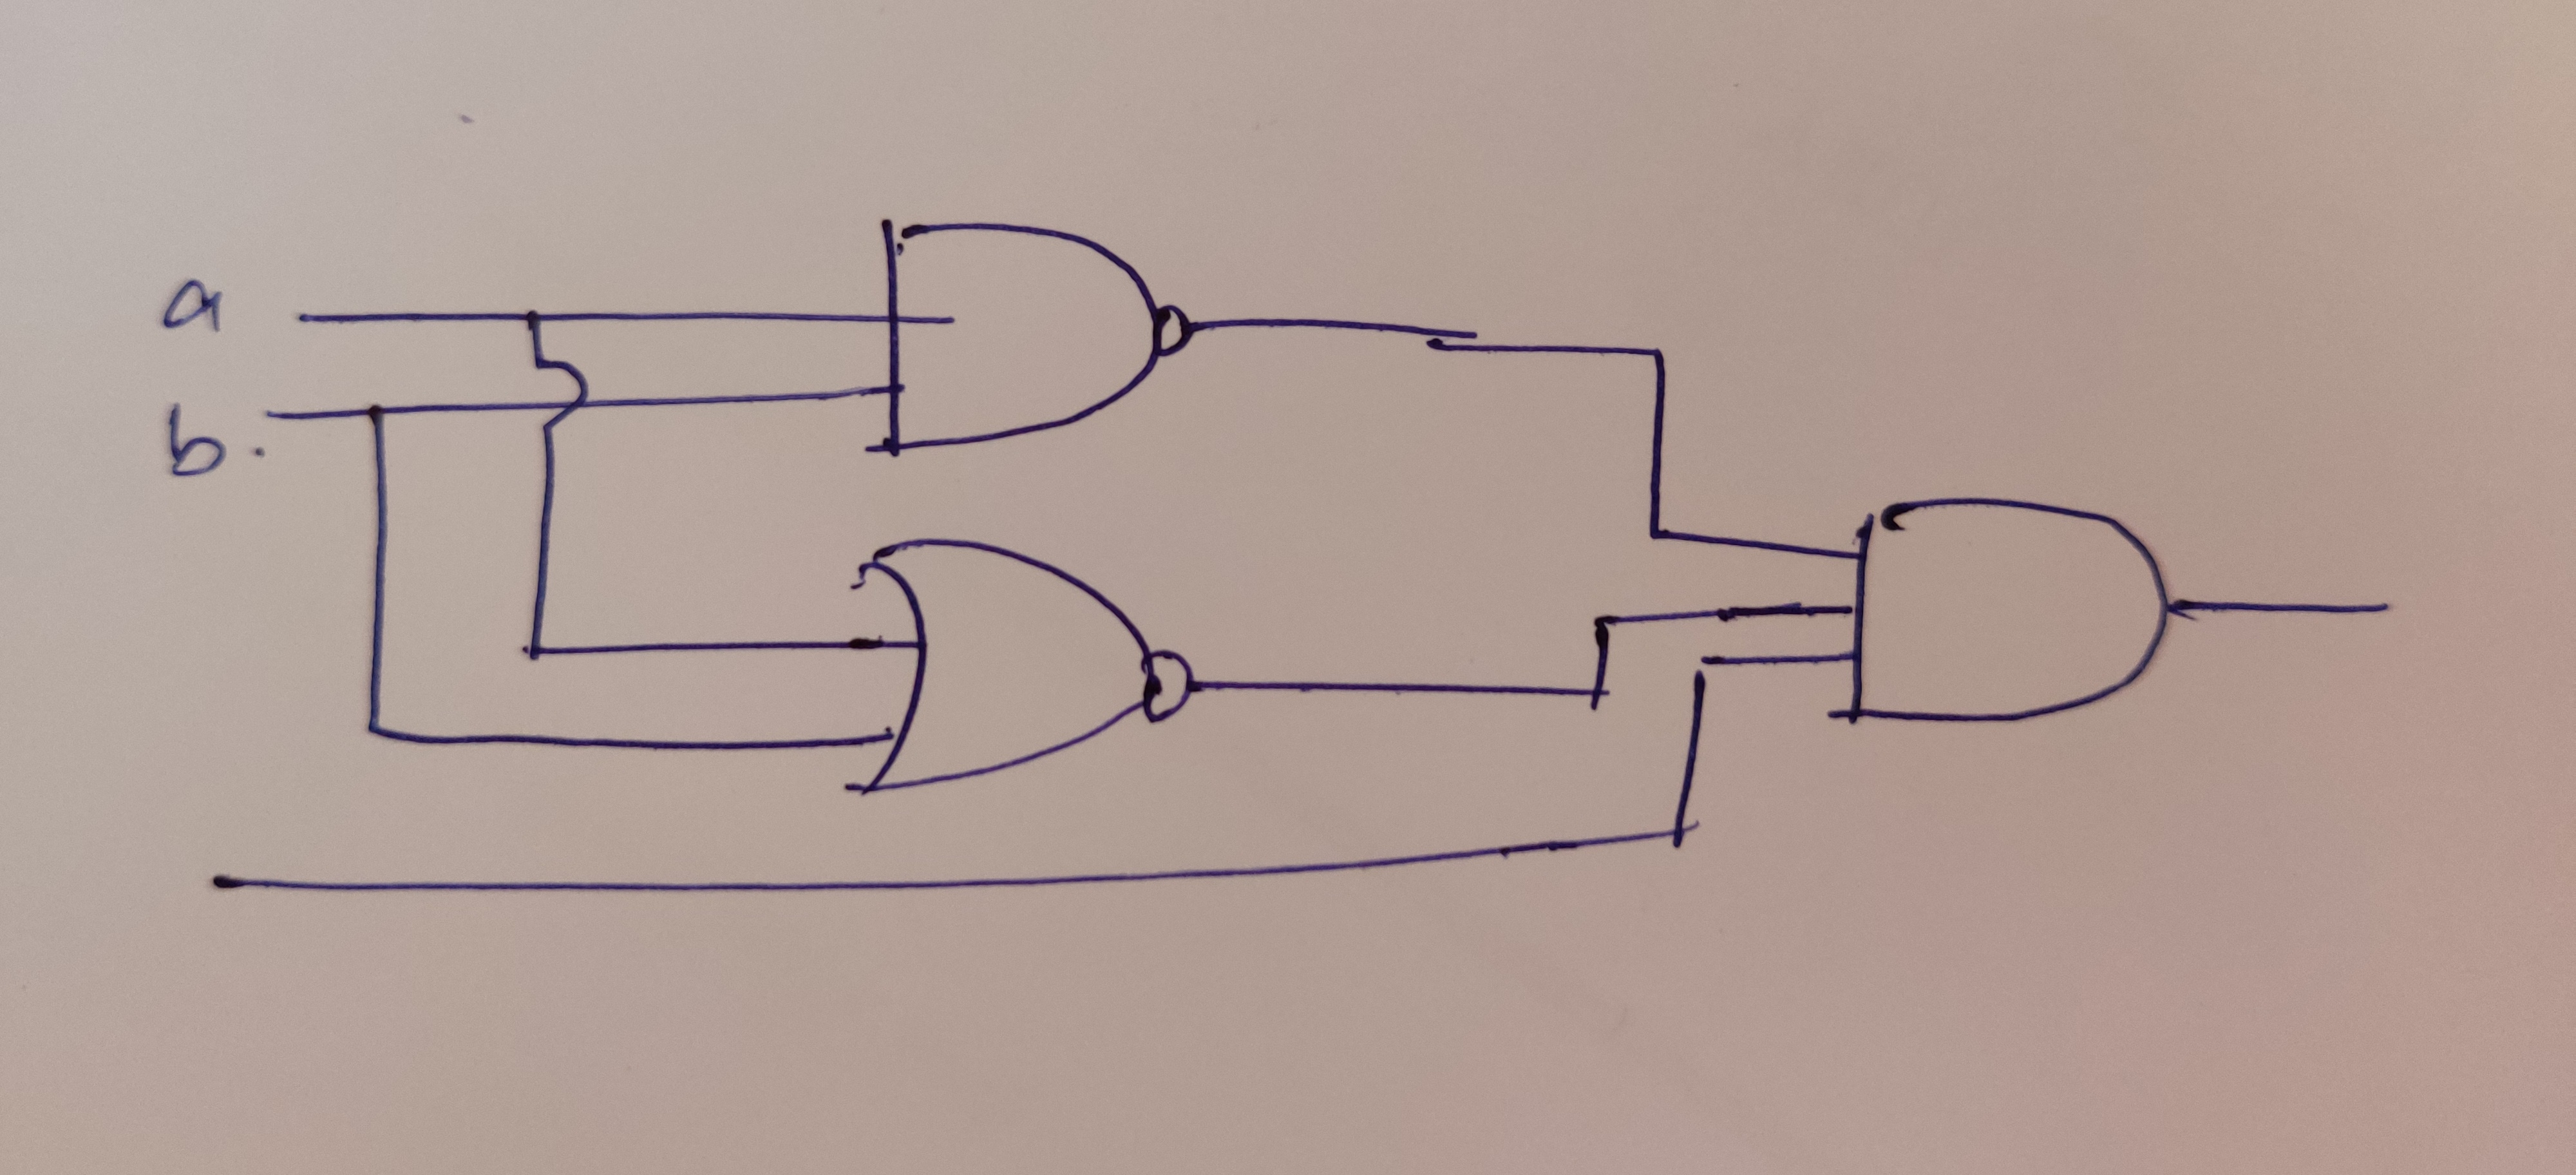and: (1819, 488, 2183, 746)
nand: (853, 186, 1204, 482)
nor: (846, 509, 1227, 828)
